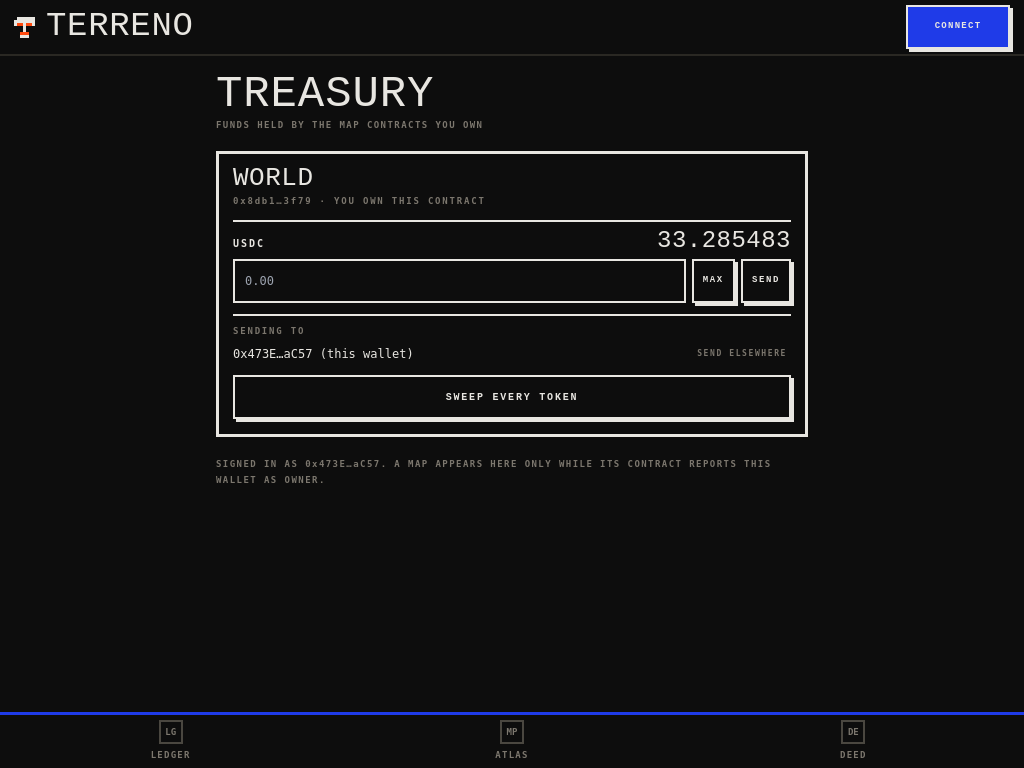
Test: before anything is signed › refuses an amount larger than the contract holds, before any dialog
Type "100" into the field named "amount of USDC". click: (459, 281)
box: [233,259,686,303]
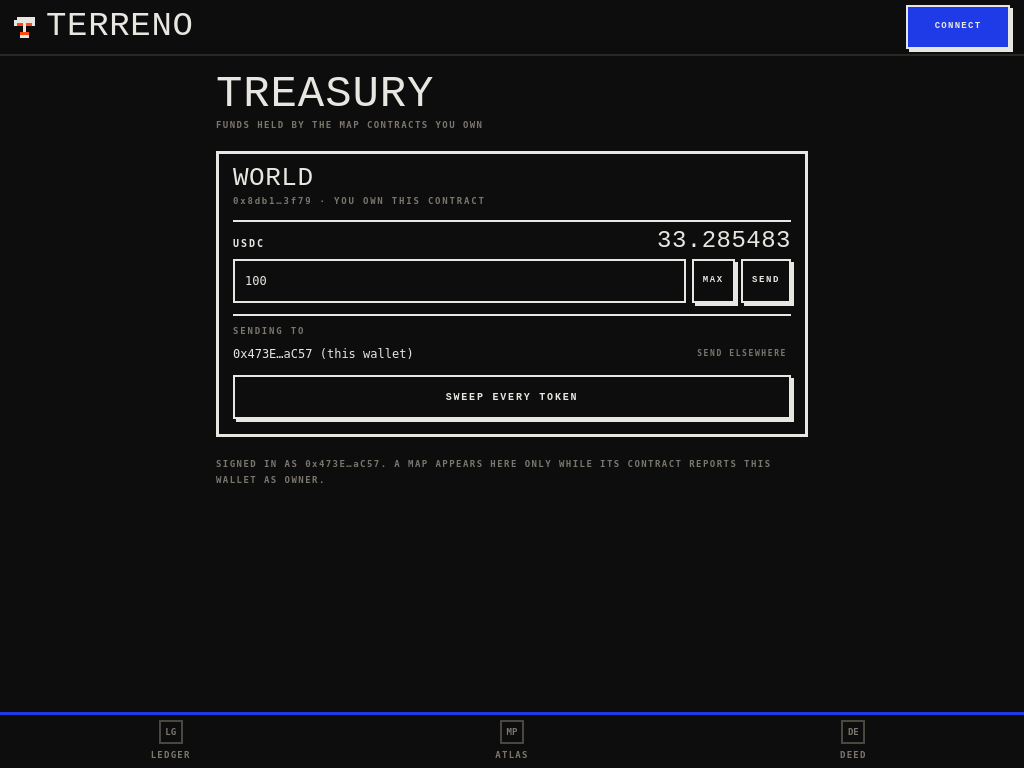
Click the button "SEND". click: (766, 281)
box: [741,259,791,303]
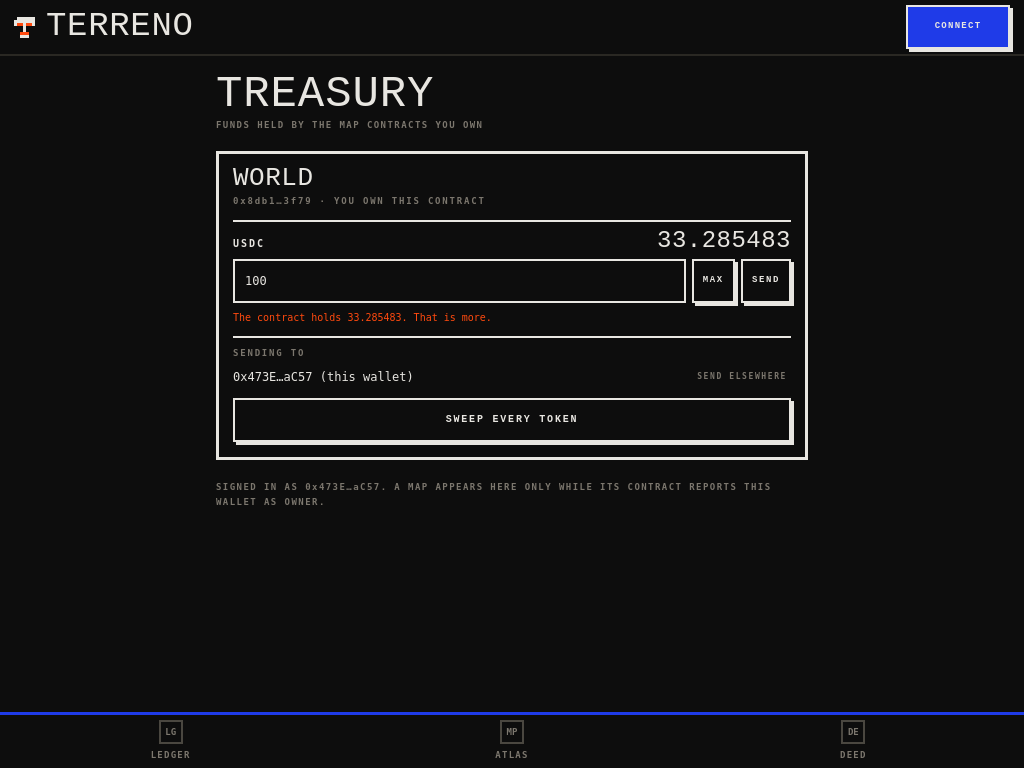
Now the message shows "33.285483", box [233,312,492,323]
